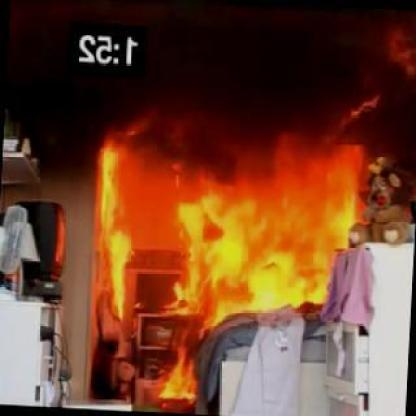Fire: (90, 143, 362, 301)
